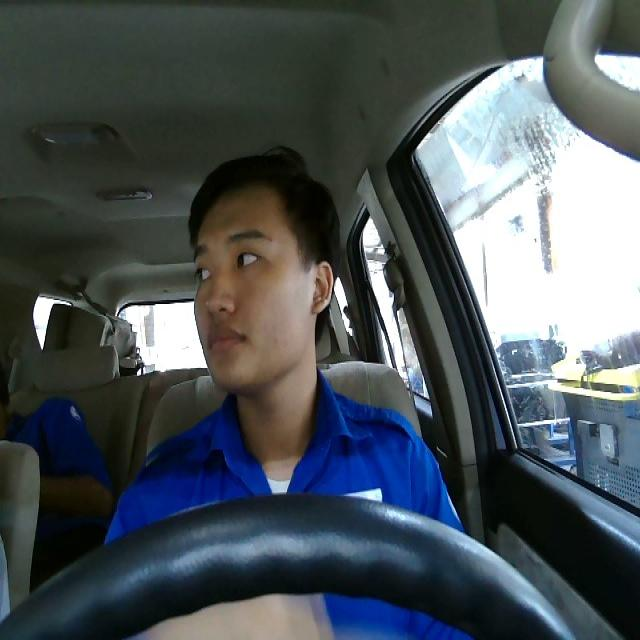seeing_left: (192, 178, 334, 390)
